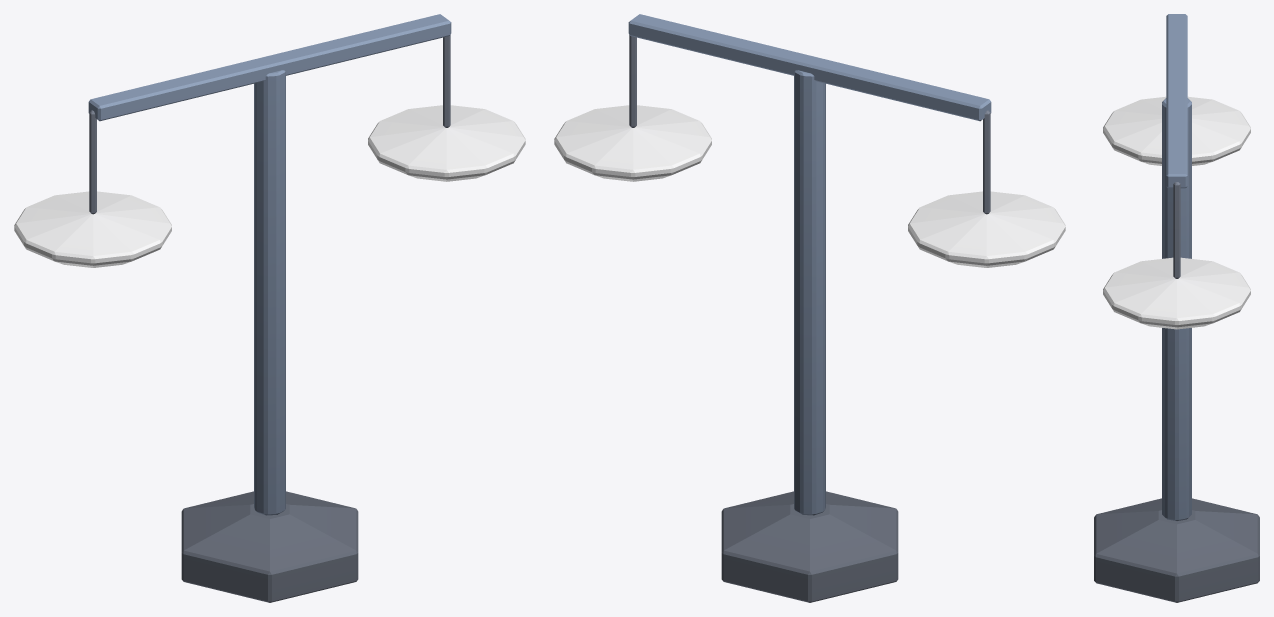
File: balance_scale.glb
3 renders of one model, left to right at view 1: azimuth 30°, elevation 25°; view 2: azimuth 150°, elevation 25°; view 3: azimuth 270°, elevation 25°, orthographic. The views are drawn at different scales.
Visible parts, largest first — view 1: balance_scale; view 2: balance_scale; view 3: balance_scale.
Boxes of the visible parts, x1,y1,x2,y2 form: balance_scale: (14,14,525,602); balance_scale: (554,14,1065,602); balance_scale: (1094,14,1259,602).
Bounding box in the file's own units: 0.499 × 0.4875 × 0.1559.
1 material, 1 textured.
